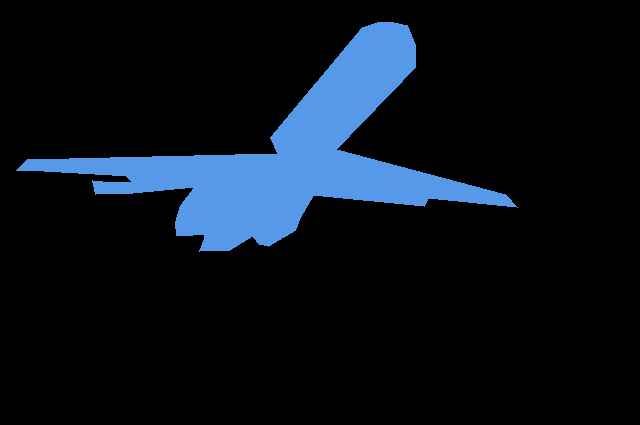Airplane: (16, 22, 518, 251)
